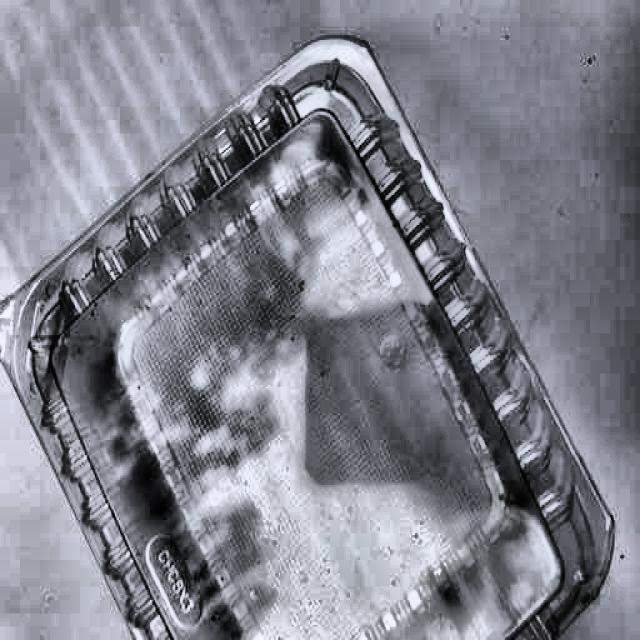plastic: (1, 38, 612, 640)
